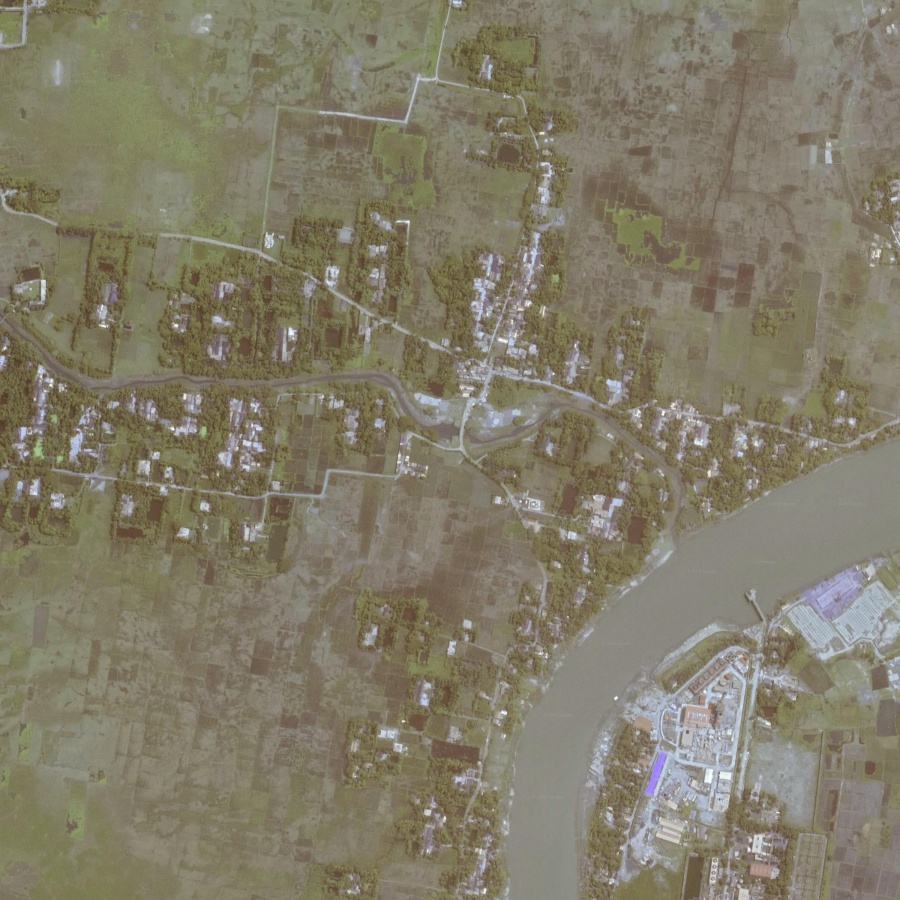PowerPlant: (672, 657, 743, 812)
